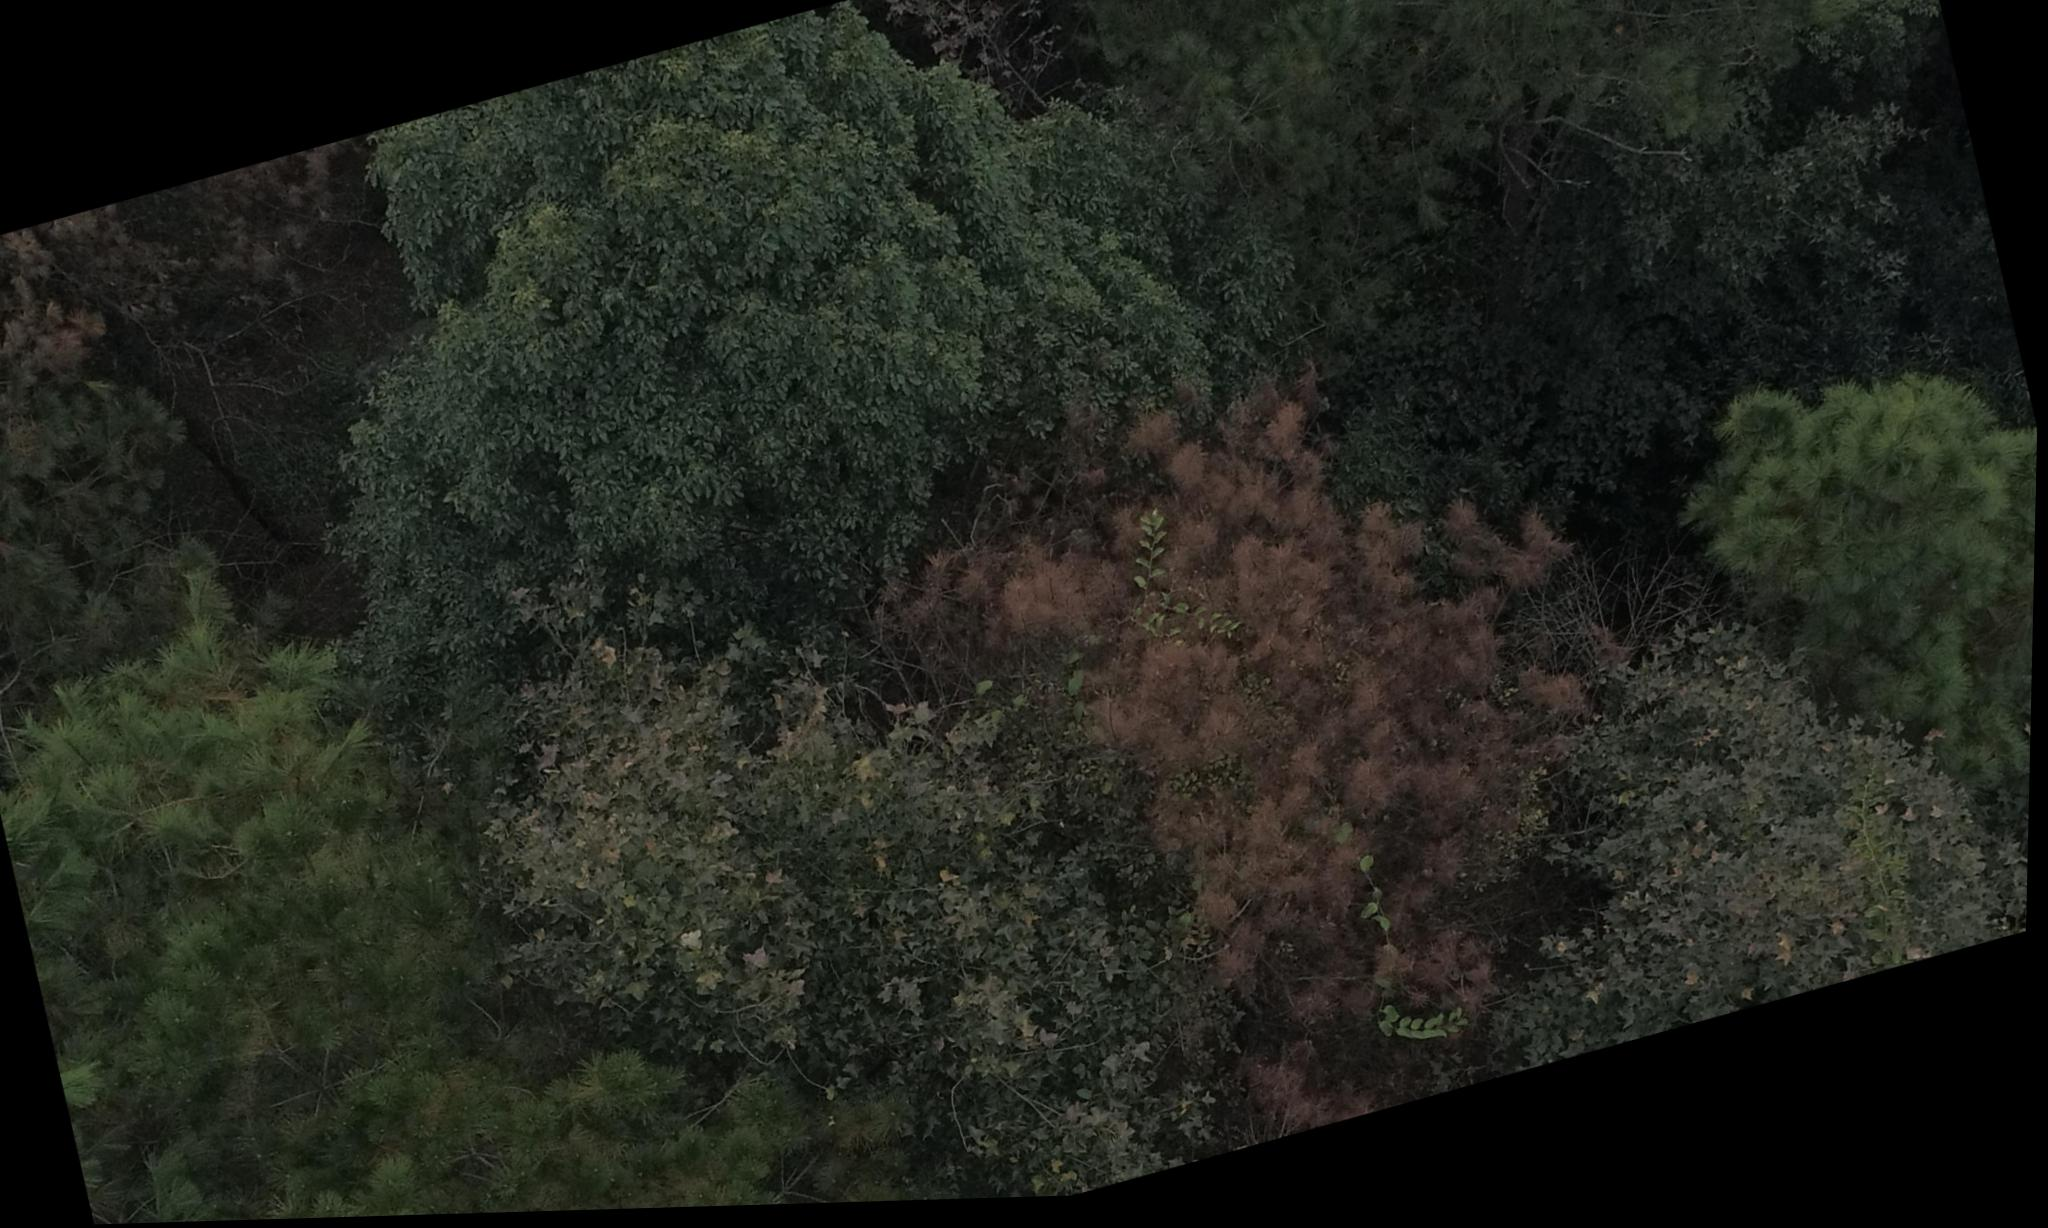heavy: (962, 320, 1680, 1085)
light: (247, 1105, 570, 1222)
